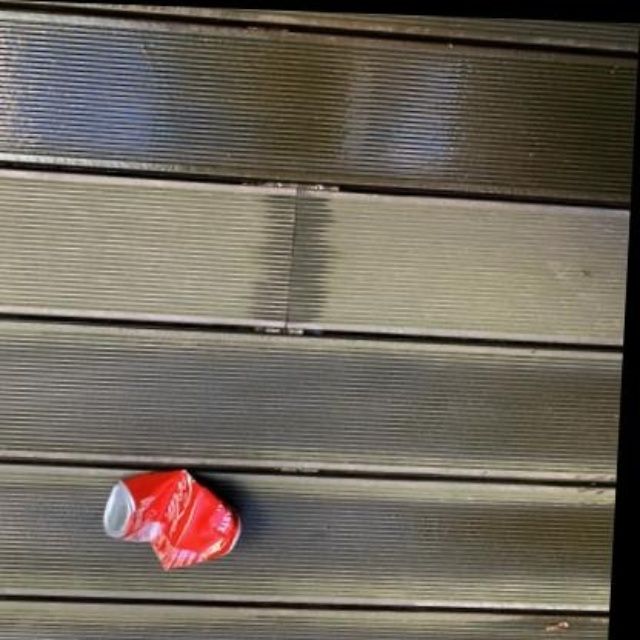trash: (103, 469, 240, 569)
